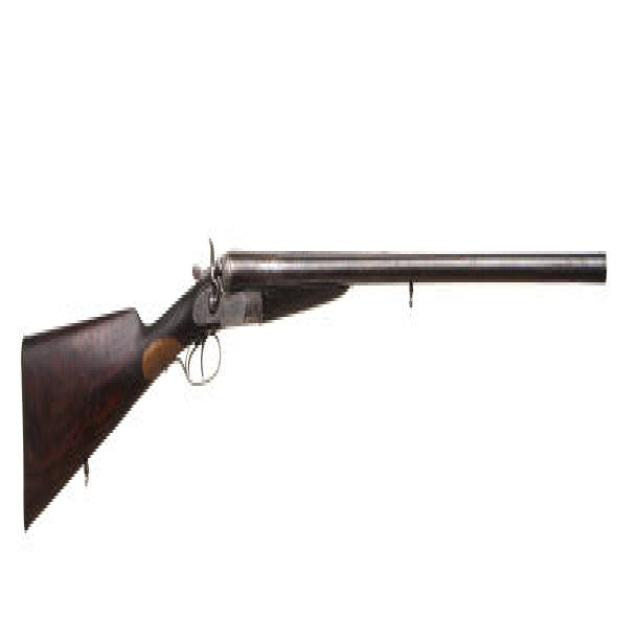rifle: (13, 242, 611, 543)
